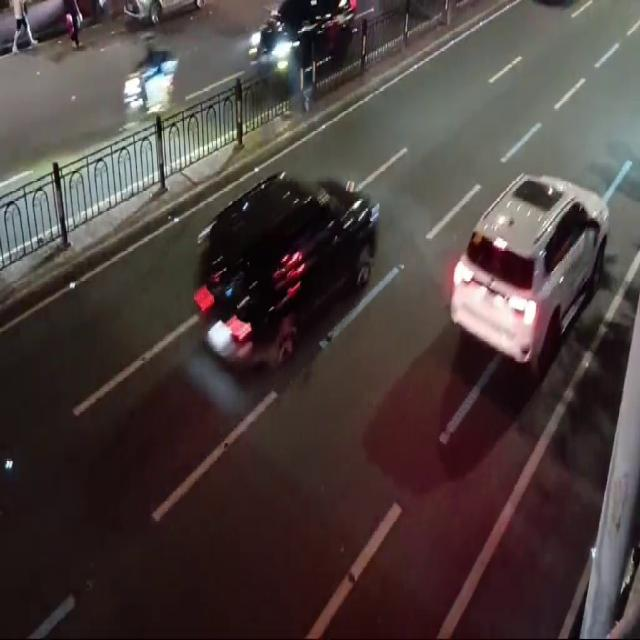car: (182, 168, 379, 380), (466, 182, 600, 384), (249, 0, 369, 89)
motorcycle: (116, 26, 182, 140)
